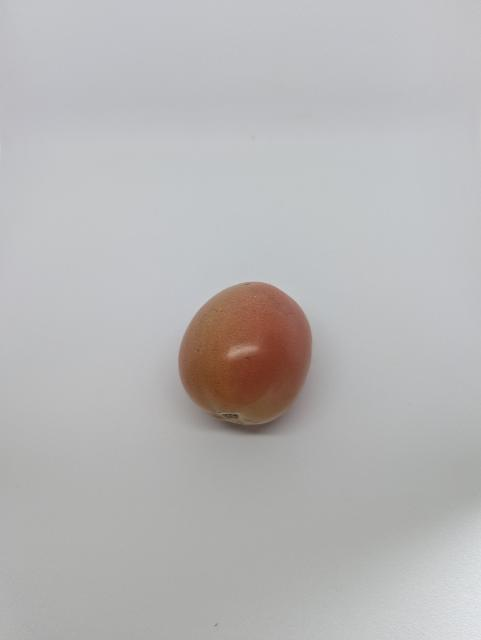turning: (171, 271, 326, 441)
